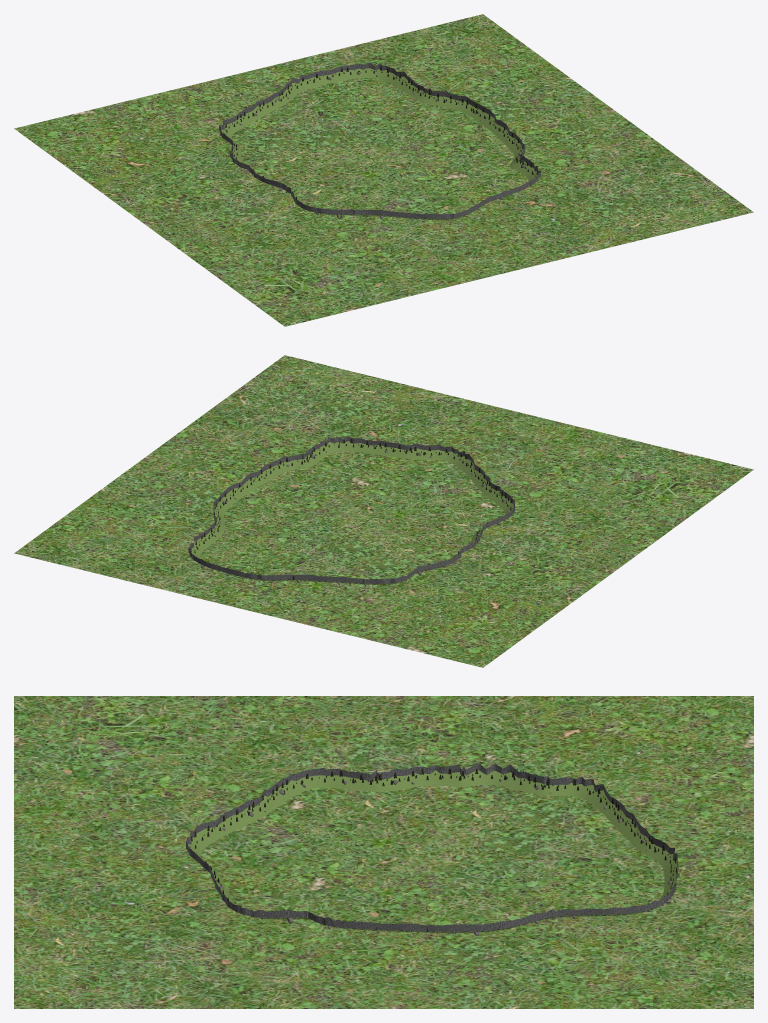
3 views of the same model, one above another, from view 1: azimuth 30°, elevation 25°; view 2: azimuth 150°, elevation 25°; view 3: azimuth 270°, elevation 25° (orthographic). The views are drawn at different scales.
Visible parts, largest first — view 1: Plane, Wall_08, Wall_09, Wall_07, Wall_00, Wall_06, Wall_03, Wall_01; view 2: Plane, Wall_02, Wall_01, Wall_00, Wall_03, Wall_07, Wall_09, Wall_08, Wall_06; view 3: Plane, Wall_05, Wall_04, Wall_06, Wall_03, Wall_07, Wall_00, Wall_09, Wall_01, Wall_08, Wall_02.
Part boxes in pixels (x1,y1,x2,y2): Plane: (14, 14, 753, 326); Wall_08: (308, 63, 407, 87); Wall_09: (399, 76, 476, 115); Wall_07: (248, 75, 313, 119); Wall_00: (469, 103, 521, 151); Wall_06: (219, 107, 255, 156); Wall_03: (354, 209, 454, 220); Wall_01: (510, 141, 540, 187); Plane: (14, 355, 753, 667); Wall_02: (357, 438, 457, 462); Wall_01: (274, 436, 359, 473); Wall_00: (219, 461, 281, 507); Wall_03: (451, 449, 500, 499); Wall_07: (244, 573, 344, 583); Wall_09: (199, 497, 228, 546); Wall_08: (188, 535, 245, 577); Wall_06: (343, 564, 432, 584); Plane: (14, 696, 753, 1008); Wall_05: (386, 763, 525, 791); Wall_04: (264, 768, 389, 806); Wall_06: (518, 772, 624, 822); Wall_03: (187, 790, 277, 852); Wall_07: (612, 806, 677, 873); Wall_00: (345, 921, 482, 932); Wall_09: (481, 908, 603, 932); Wall_01: (224, 894, 347, 929); Wall_08: (604, 861, 678, 915); Wall_02: (186, 839, 234, 904).
Bounding box in the file's own units: 1400 × 34.11 × 1400.
